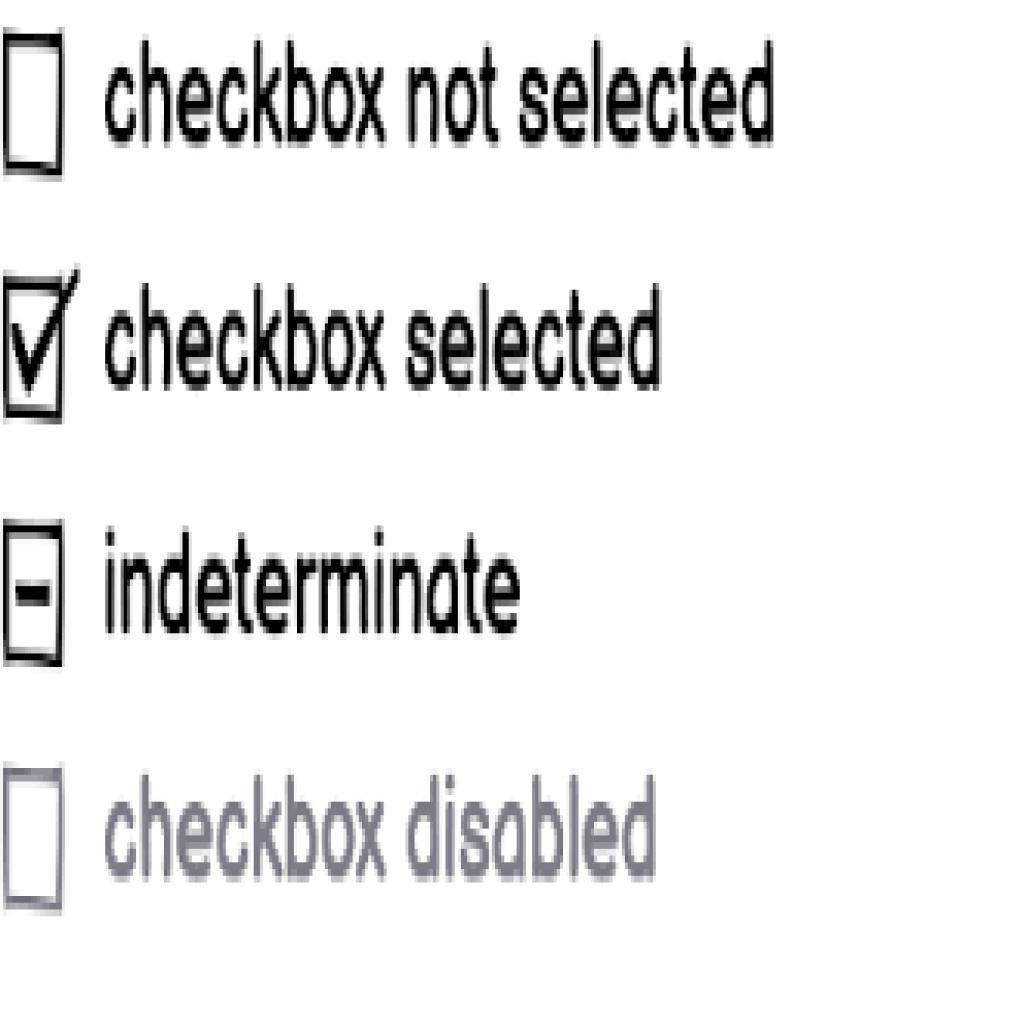checkbox: (1, 276, 67, 422), (5, 33, 67, 180), (2, 523, 65, 665), (5, 770, 58, 911)
